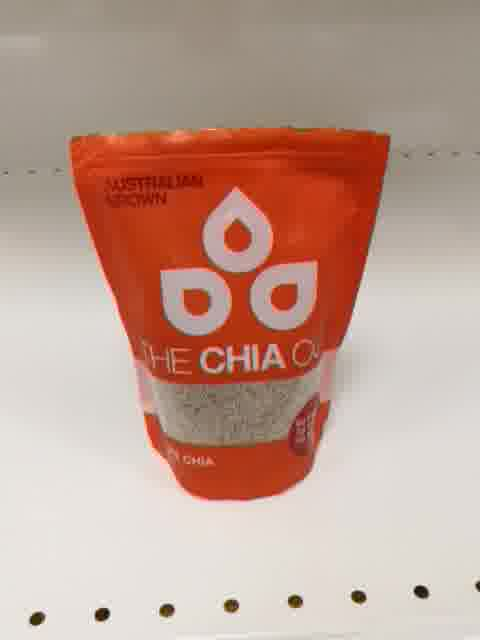whitechia: (68, 124, 395, 506)
